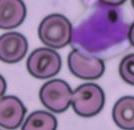M: (69, 2, 130, 59)
